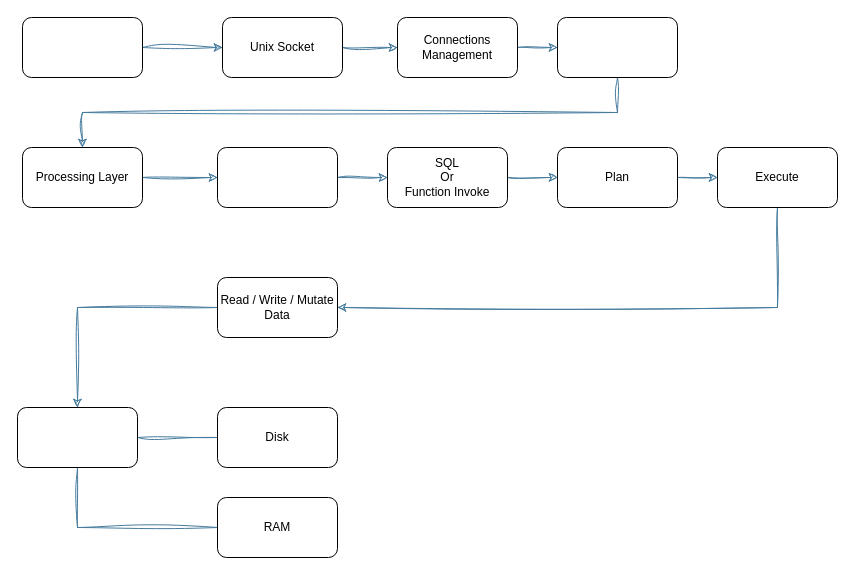
This 855x575 diagram has some shape labels left out. Each missing label, with the centre of its shape:
"Auth" goes at (x=617, y=47).
"Network Layer" goes at (x=82, y=47).
"Parse Request" goes at (x=277, y=177).
"Storage Layer" goes at (x=77, y=437).
